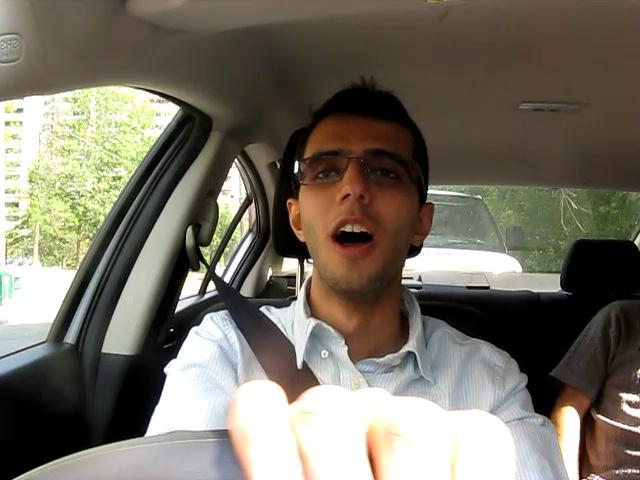close_eyeL: (302, 161, 352, 189)
close_eyeR: (360, 160, 416, 189)
yawn: (316, 218, 388, 257)
